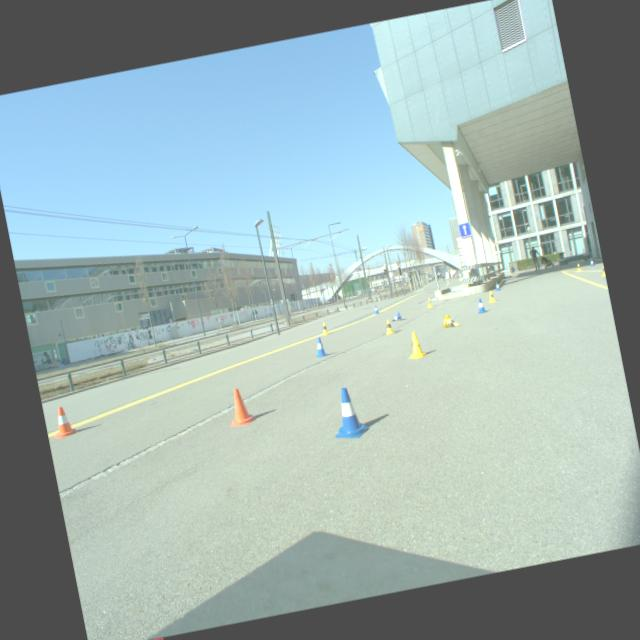blue_cone: (326, 384, 371, 442), (312, 336, 329, 358), (476, 298, 486, 314), (392, 312, 402, 322), (372, 304, 380, 314), (495, 282, 502, 292), (589, 258, 595, 266)
orange_cone: (224, 385, 258, 428), (48, 404, 78, 440)
yellow_cone: (404, 330, 429, 360), (442, 313, 459, 329), (384, 318, 396, 334), (486, 290, 496, 303), (320, 322, 329, 336), (426, 298, 434, 308), (600, 264, 606, 276), (576, 263, 583, 272)
